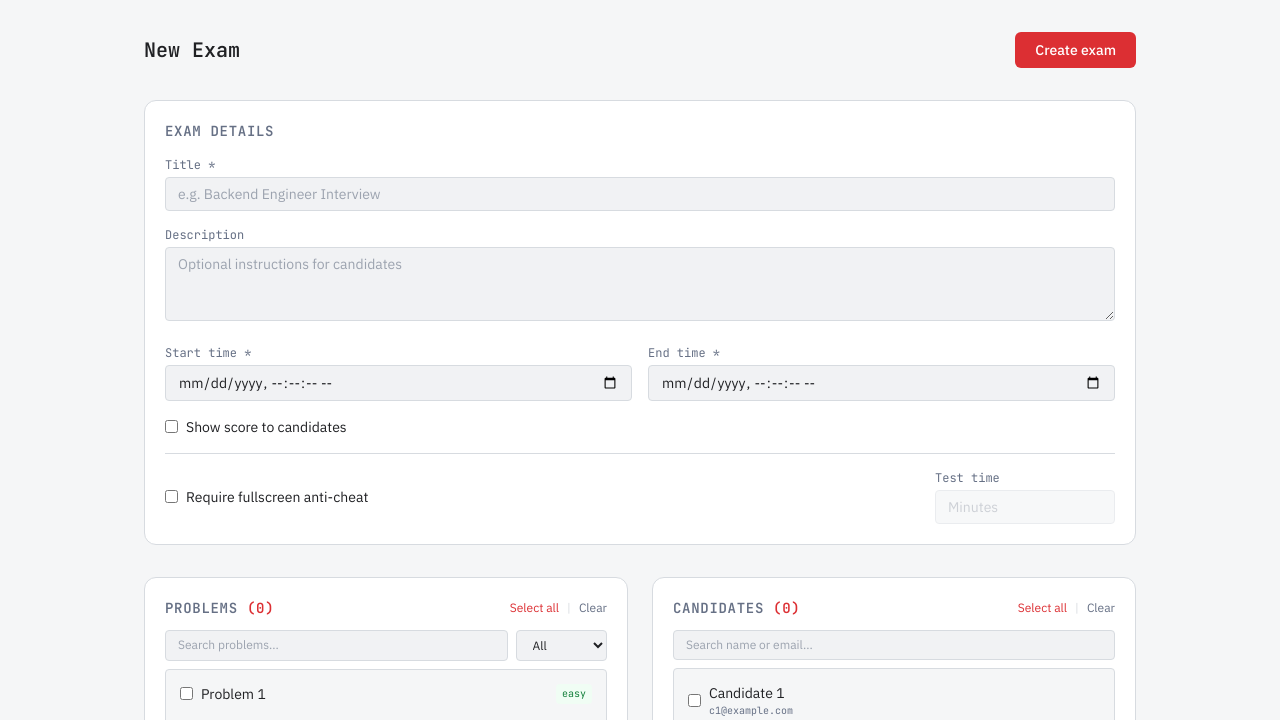
Scenario: ExamManagePage - Filtering and Bulk Actions › filters candidates by text
The image size is (1280, 720).
expect the text "Candidate 1" is shown: met, box [709,683,793,703]
Step 1. Type "alice@example" into the field with placeholder "Search name or email..." → (894, 645), box [673,630,1115,660]
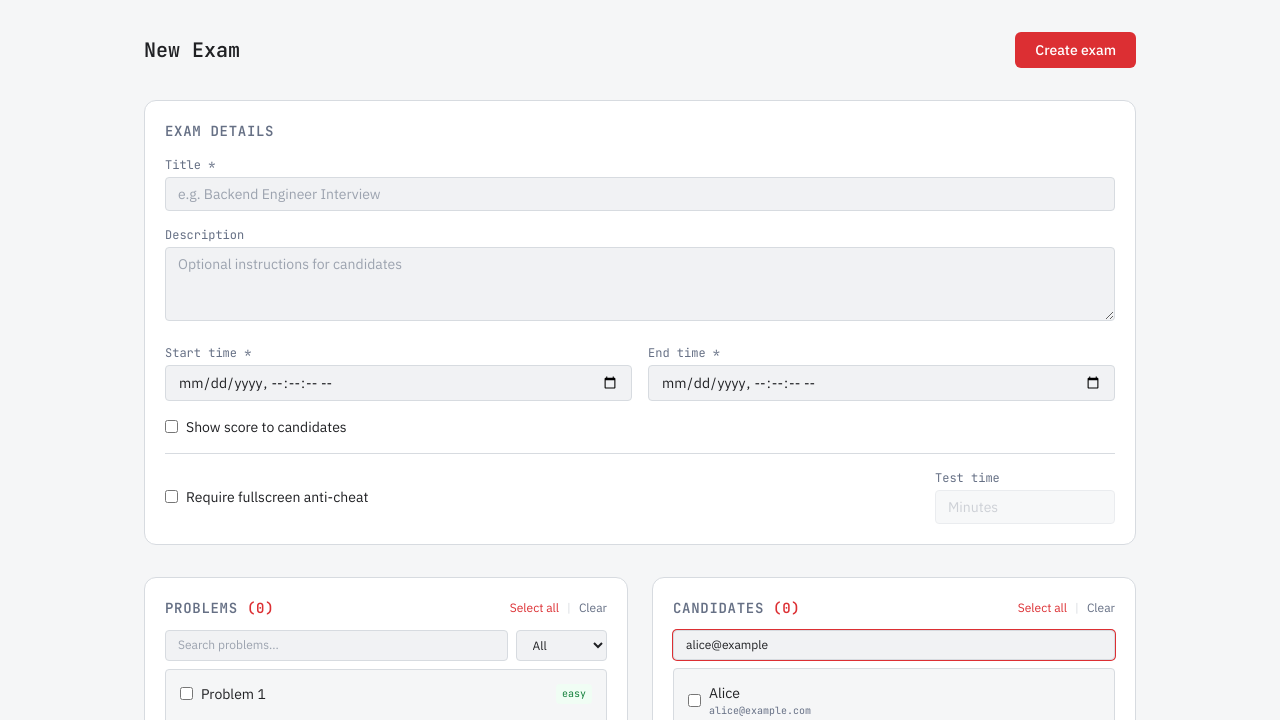
expect the text "Alice" is shown: met, box [709,684,740,702]
expect the text "Candidate 1" is gone: met
Step 2. Type "XYZ" into the field with placeholder "Search name or email..." → (894, 645), box [673,630,1115,660]
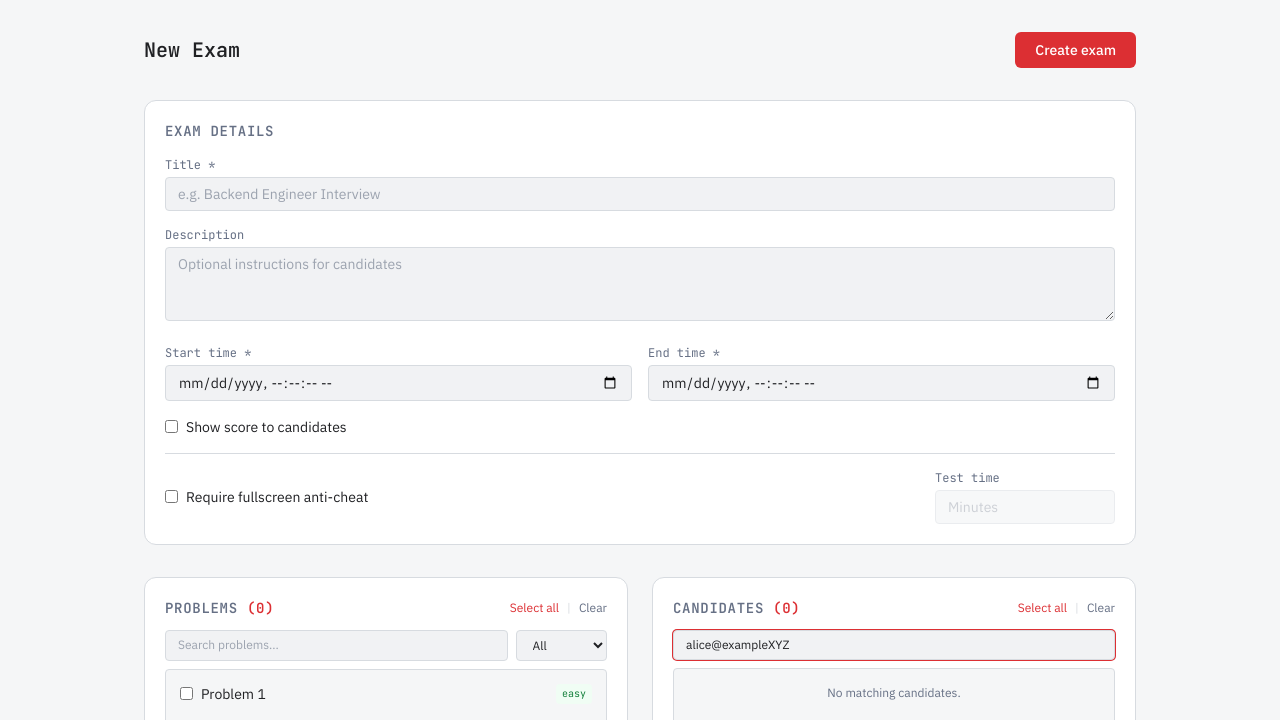
expect the text "No matching candidates." is shown: met, box [827,685,961,700]
